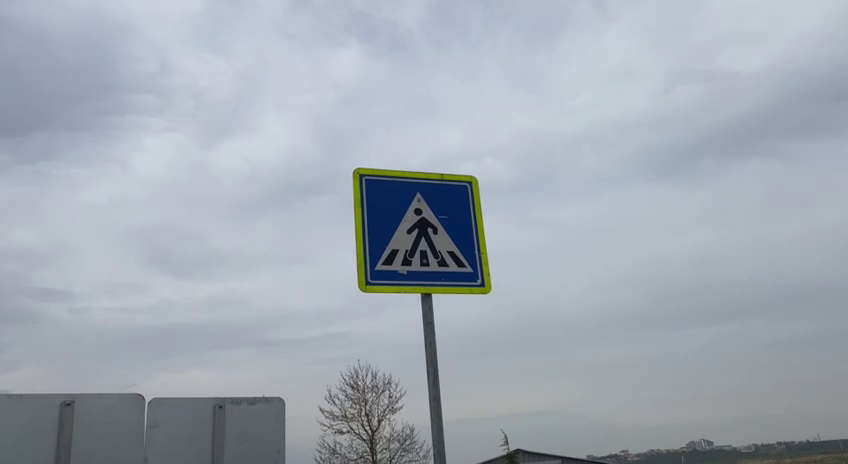pedestrianCrossing: (350, 164, 494, 299)
